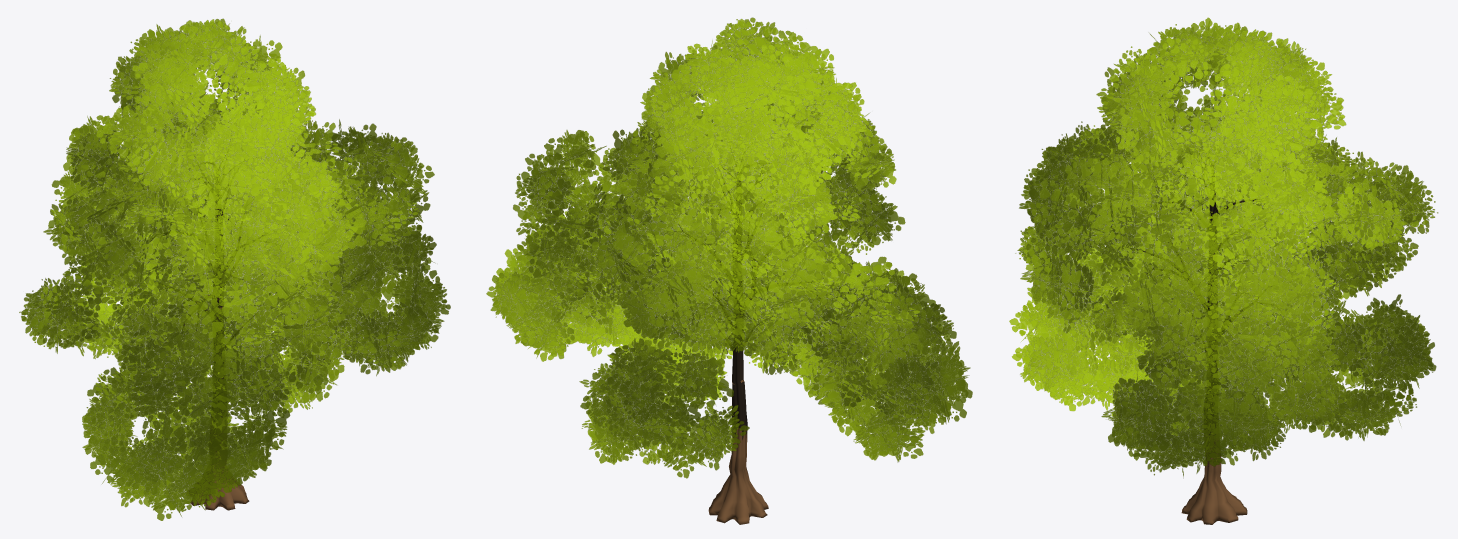
The model's file is Tree1.glb.
3 renders of one model, left to right at view 1: azimuth 30°, elevation 25°; view 2: azimuth 150°, elevation 25°; view 3: azimuth 270°, elevation 25°, orthographic. The views are drawn at different scales.
Parts seen in each view (by area): view 1: Broadleaf_Tree 3_Leaves_LOD0, Birch _Tree_3_LOD0; view 2: Broadleaf_Tree 3_Leaves_LOD0, Birch _Tree_3_LOD0; view 3: Broadleaf_Tree 3_Leaves_LOD0, Birch _Tree_3_LOD0.
Part boxes in pixels (x1,y1,x2,y2): Broadleaf_Tree 3_Leaves_LOD0: (19, 18, 450, 520); Birch _Tree_3_LOD0: (148, 131, 262, 510); Broadleaf_Tree 3_Leaves_LOD0: (486, 17, 972, 478); Birch _Tree_3_LOD0: (675, 173, 825, 524); Broadleaf_Tree 3_Leaves_LOD0: (1009, 17, 1438, 477); Birch _Tree_3_LOD0: (1136, 157, 1271, 524).
Size of the model in its own units: 9.07 by 9.9 by 8.12.
Materials: 2 (2 with a texture image).
